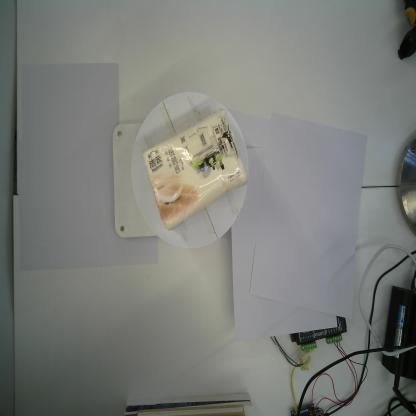Tissue: (140, 106, 250, 233)
